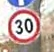limite 30: (6, 8, 41, 44)
